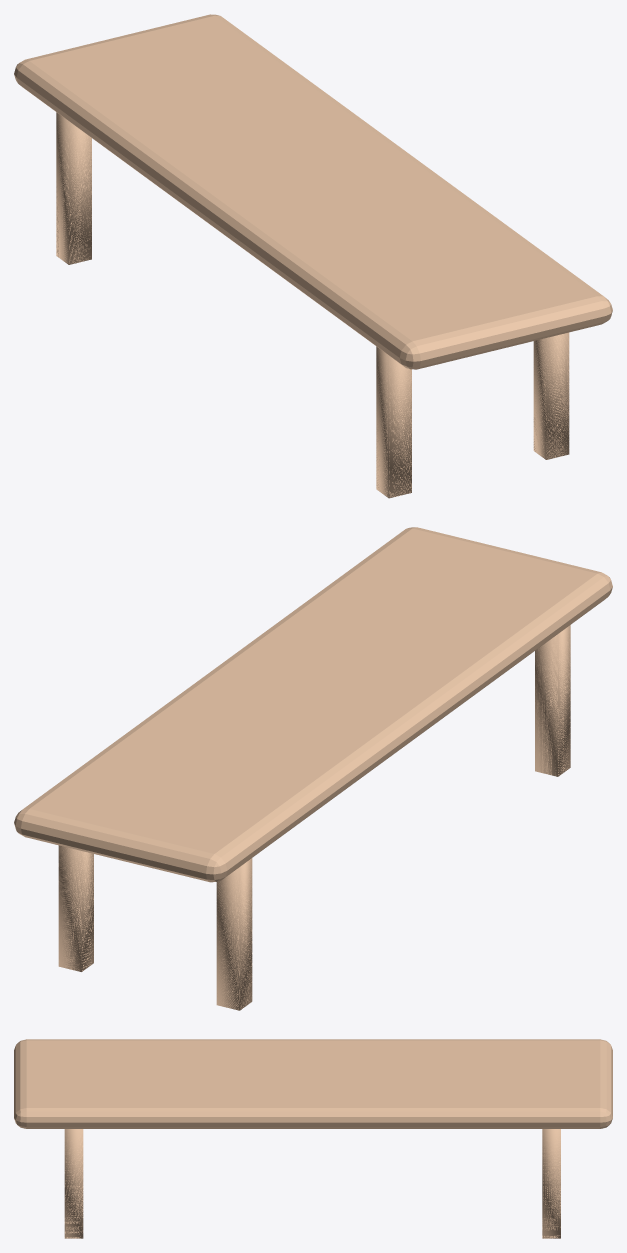
Rendered from mesa .fbx.
3 renders of one model, top to bottom at view 1: azimuth 30°, elevation 25°; view 2: azimuth 150°, elevation 25°; view 3: azimuth 270°, elevation 25°, orthographic. The views are drawn at different scales.
Visible parts, largest first — view 1: Mesa.001, Pata.005, Pata.001, Pata; view 2: Mesa.001, Pata.005, Pata.001, Pata.003; view 3: Mesa.001, Pata, Pata.003.
Boxes of the visible parts, left/top/right/bottom form: Mesa.001: left=14, top=14, right=612, bottom=369; Pata.005: left=56, top=112, right=91, bottom=264; Pata.001: left=376, top=346, right=411, bottom=498; Pata: left=533, top=332, right=569, bottom=459; Mesa.001: left=14, top=527, right=612, bottom=882; Pata.005: left=216, top=858, right=252, bottom=1010; Pata.001: left=535, top=625, right=570, bottom=776; Pata.003: left=58, top=845, right=93, bottom=971; Mesa.001: left=14, top=1039, right=612, bottom=1128; Pata: left=64, top=1129, right=83, bottom=1238; Pata.003: left=542, top=1129, right=560, bottom=1238.
Size of the model in its own units: 104 by 82.66 by 340.
